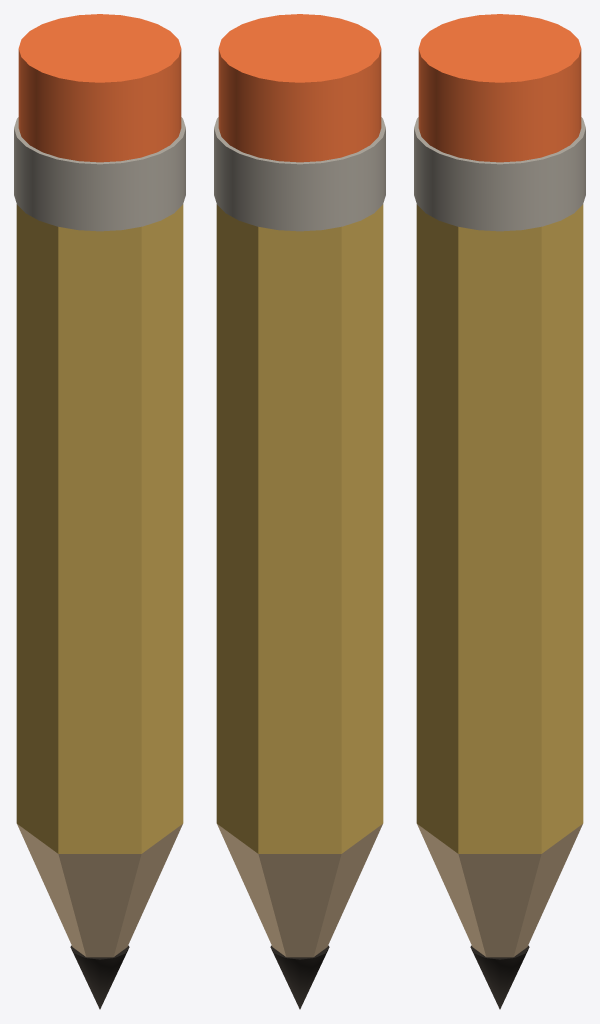
The model's file is pensil.glb.
3 views of the same model, side by side, from view 1: azimuth 30°, elevation 25°; view 2: azimuth 150°, elevation 25°; view 3: azimuth 270°, elevation 25° (orthographic).
Visible parts, largest first — view 1: pensil; view 2: pensil; view 3: pensil.
Part boxes in pixels (<box>): pensil: <box>14,14,185,1009</box>; pensil: <box>214,14,385,1009</box>; pensil: <box>414,14,585,1009</box>.
Size of the model in its own units: 0.1621 by 1 by 0.1621.
